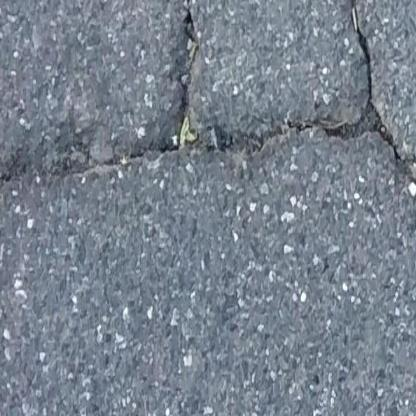Cracks: (0, 0, 416, 201)
